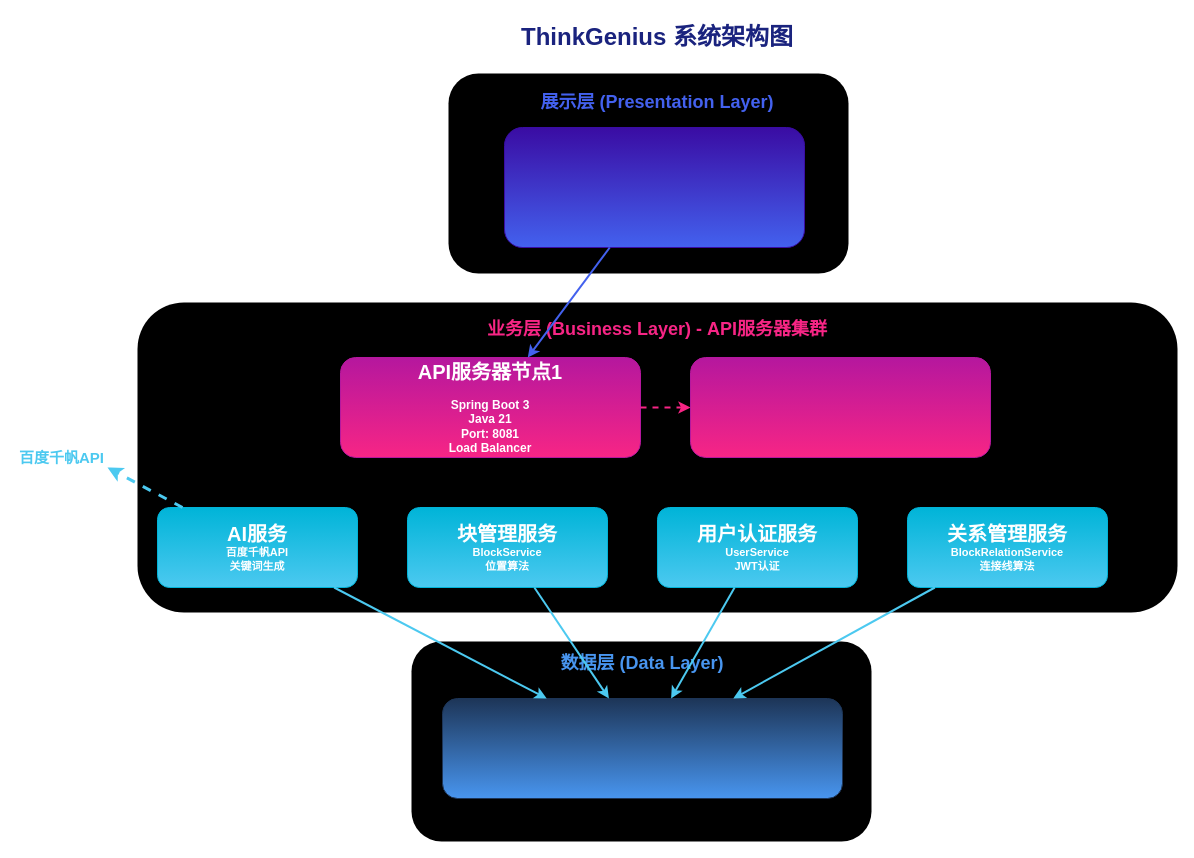
The diagram is 1194 pixels wide and 858 high, and some of its shapes have lost their labels. The shapes that lost their labels are listed below. From the top down, each one's centre as x and y in pixels, then its label:
the point at 654,187: Web前端 Vue 3 + Vite Tailwind CSS Axios Markdown-it BlockCanvas.vue
the point at 840,407: API服务器节点2 Spring Security JWT认证 Port: 8082 Health Check
the point at 642,748: MongoDB 数据库 Collections: users, blocks, block_relations, keywords
